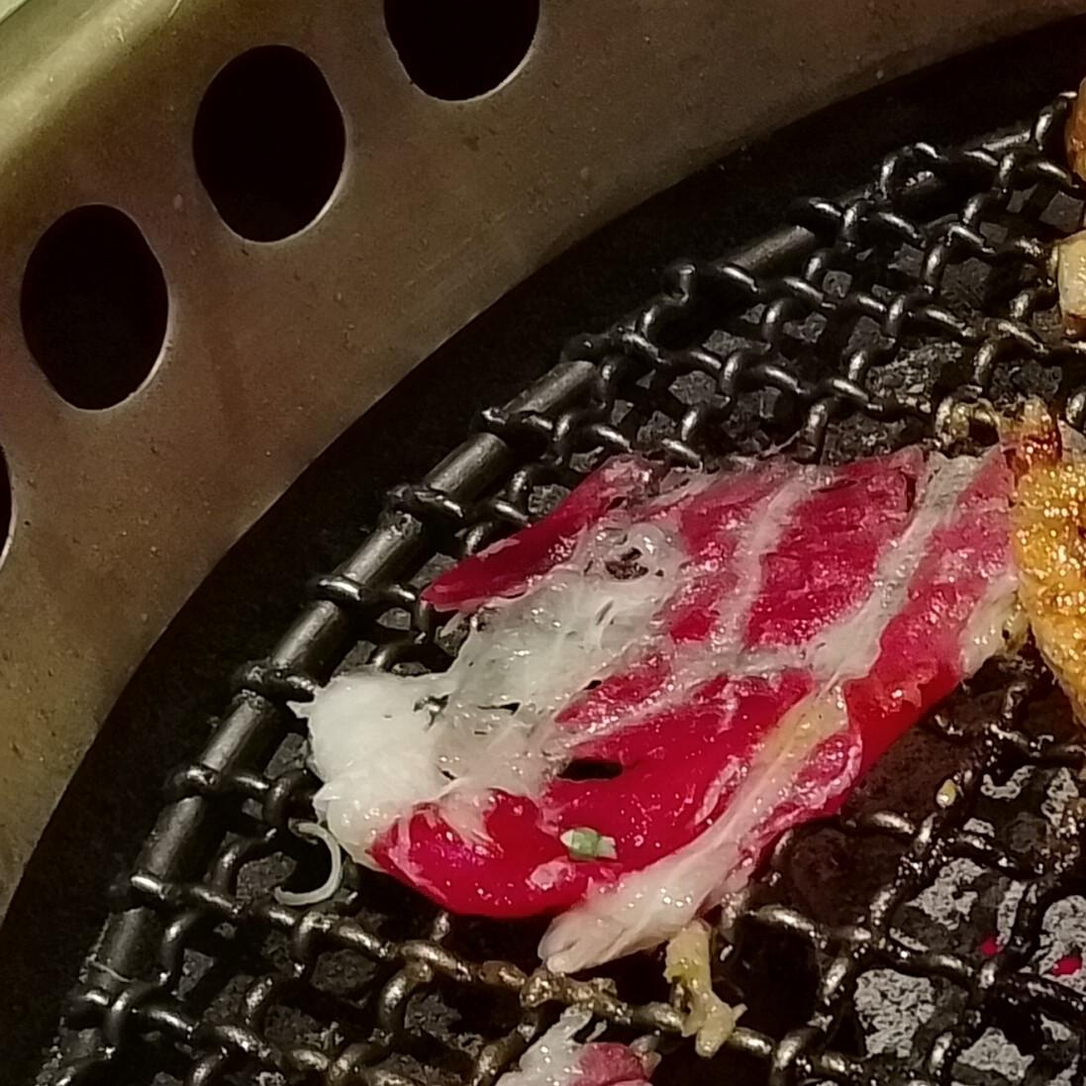Undercooked: (295, 417, 1085, 972)
